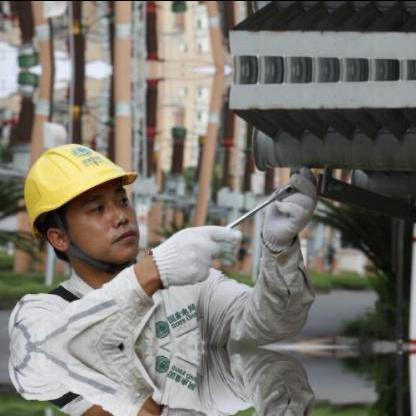Helmet: (12, 130, 156, 272)
